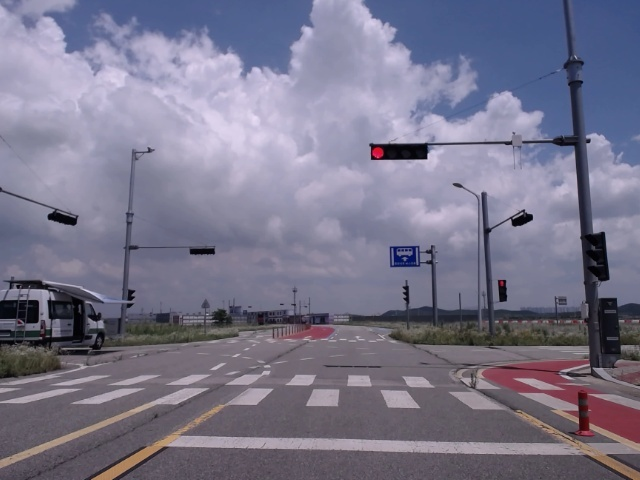red_4: (370, 144, 428, 160)
